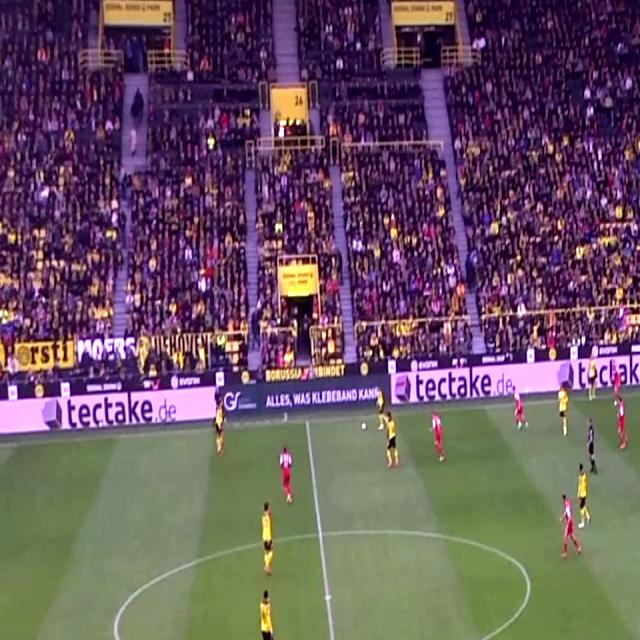ball: (361, 420, 369, 432)
referee: (584, 413, 600, 476)
soccer-player: (556, 491, 584, 570), (259, 486, 282, 579), (276, 436, 298, 520), (574, 453, 595, 531), (382, 410, 404, 472), (431, 409, 454, 468), (258, 580, 280, 640), (208, 395, 228, 454), (554, 377, 572, 441), (616, 395, 634, 458), (372, 380, 390, 432), (513, 382, 529, 437), (586, 353, 600, 404), (610, 353, 622, 406), (636, 444, 640, 511)
